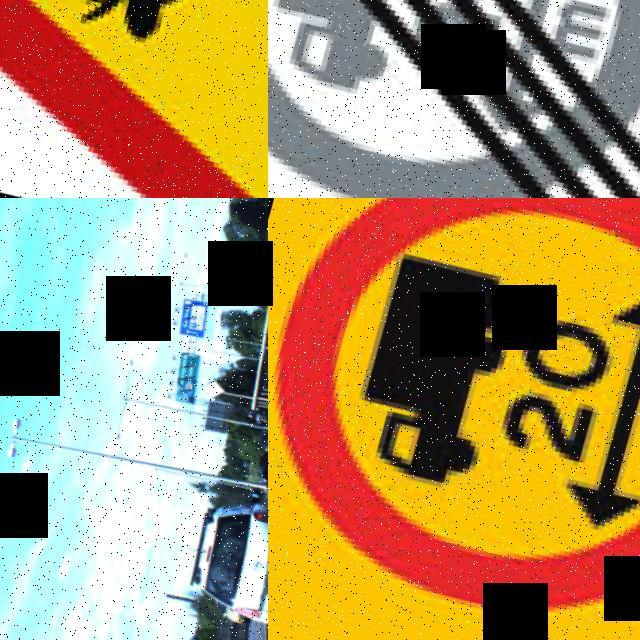111: (268, 0, 640, 198)
57: (200, 374, 232, 402)
No vehicles exceeding length shown: (268, 198, 640, 640)
warning wild animal: (0, 0, 268, 198)
